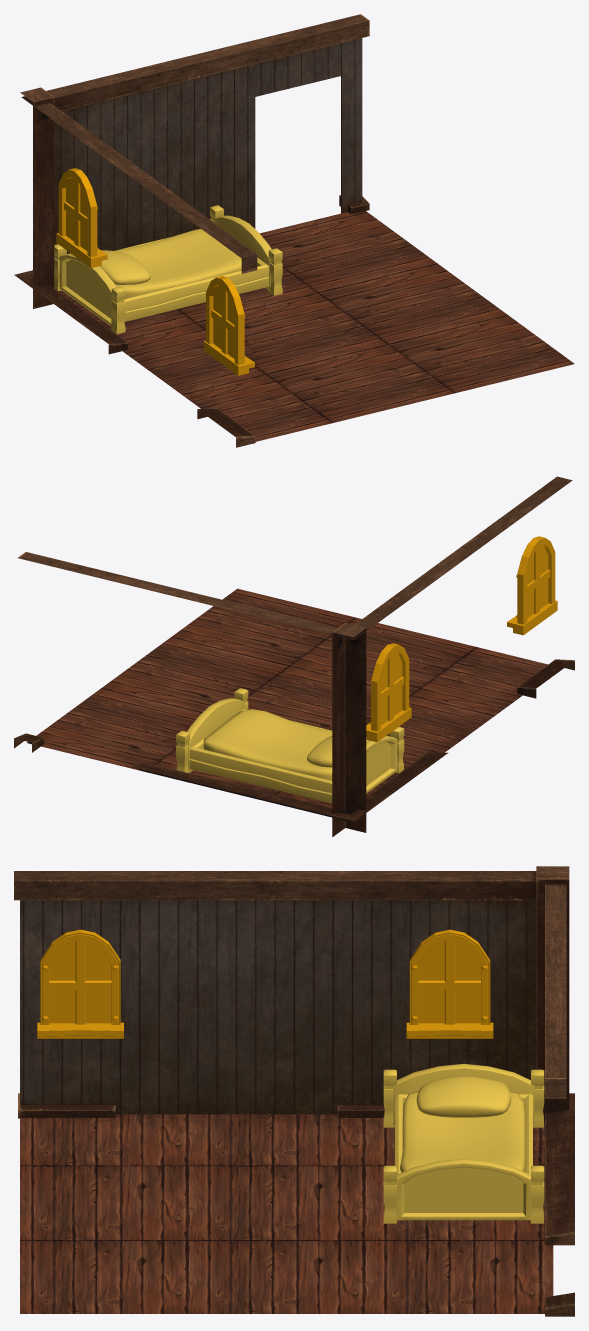
Rendered from Sketchfab_2024_03_26_09_35_16.fbx.
3 views of the same model, one above another, from view 1: azimuth 30°, elevation 25°; view 2: azimuth 150°, elevation 25°; view 3: azimuth 270°, elevation 25° (orthographic). The views are drawn at different scales.
Parts seen in each view (by area): view 1: Walls, Bed, Window, Window.001; view 2: Walls, Bed, Window.001, Window; view 3: Walls, Bed, Window, Window.001.
Part boxes in pixels (x1,y1,x2,y2): Walls: (14, 14, 574, 447); Bed: (54, 205, 282, 333); Window: (56, 168, 107, 267); Window.001: (203, 276, 254, 375); Walls: (14, 476, 574, 836); Bed: (176, 688, 404, 803); Window.001: (507, 536, 557, 635); Window: (366, 643, 411, 742); Walls: (14, 866, 574, 1316); Bed: (383, 1063, 544, 1223); Window: (406, 929, 493, 1038); Window.001: (37, 929, 123, 1038).
Bounding box in the file's own units: 756 × 435 × 853.
